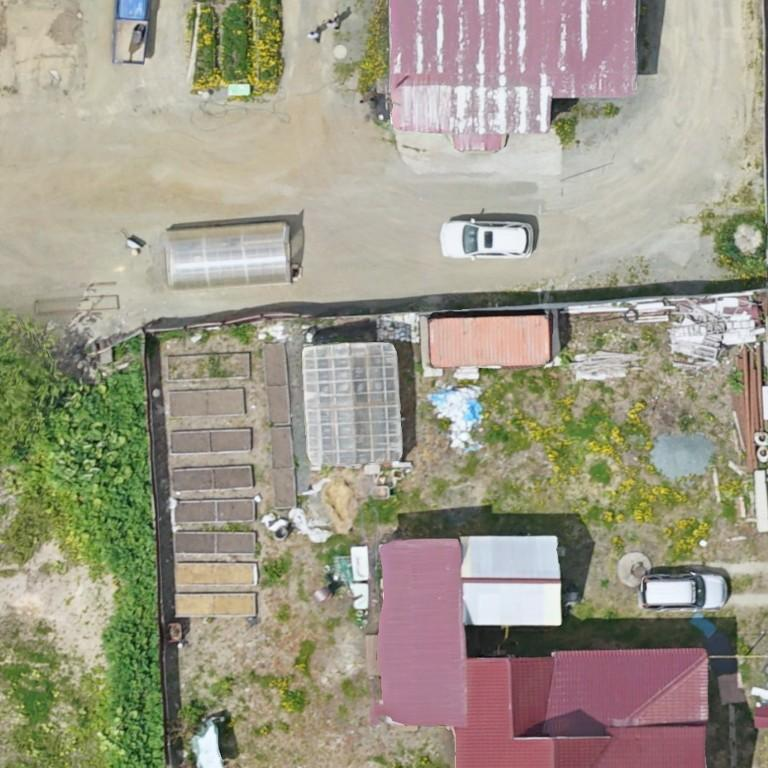hogweed: (84, 372, 163, 767)
